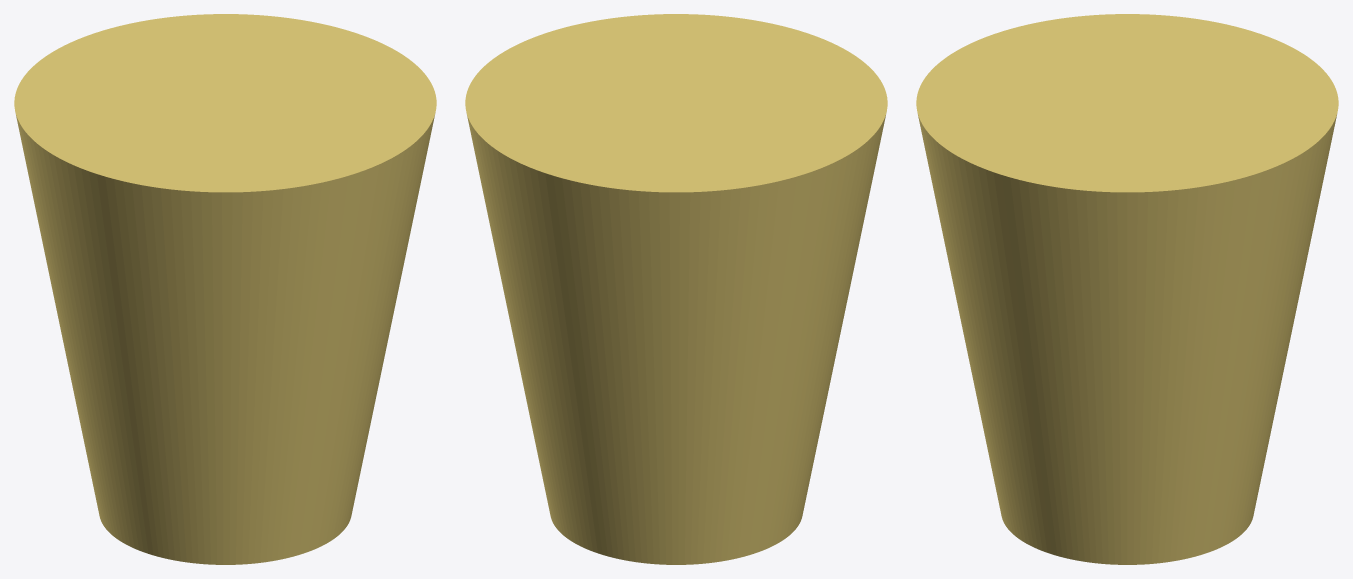
Rendered from liquid.fbx.
3 views of the same model, side by side, from view 1: azimuth 30°, elevation 25°; view 2: azimuth 150°, elevation 25°; view 3: azimuth 270°, elevation 25° (orthographic).
Parts seen in each view (by area): view 1: Liquid; view 2: Liquid; view 3: Liquid.
Boxes of the visible parts, bbox=[...] form: Liquid: bbox=[14, 14, 436, 564]; Liquid: bbox=[465, 14, 887, 564]; Liquid: bbox=[916, 14, 1338, 564].
Size of the model in its own units: 37.4 by 39.9 by 37.4.
